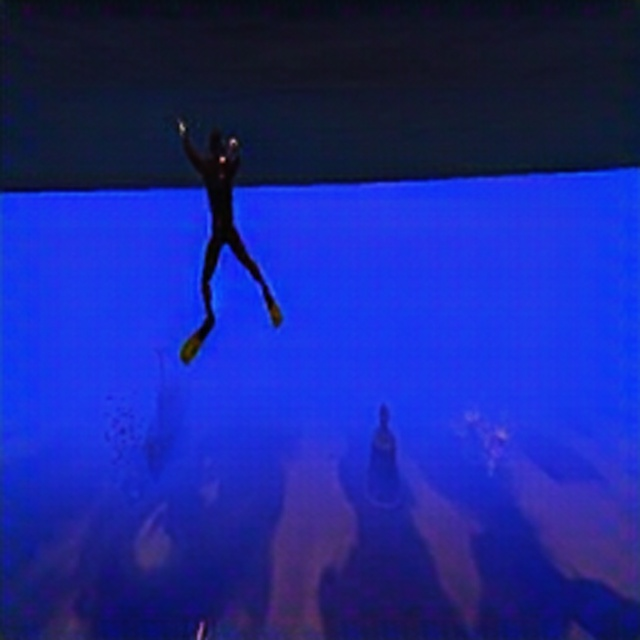diver: (176, 116, 283, 339)
